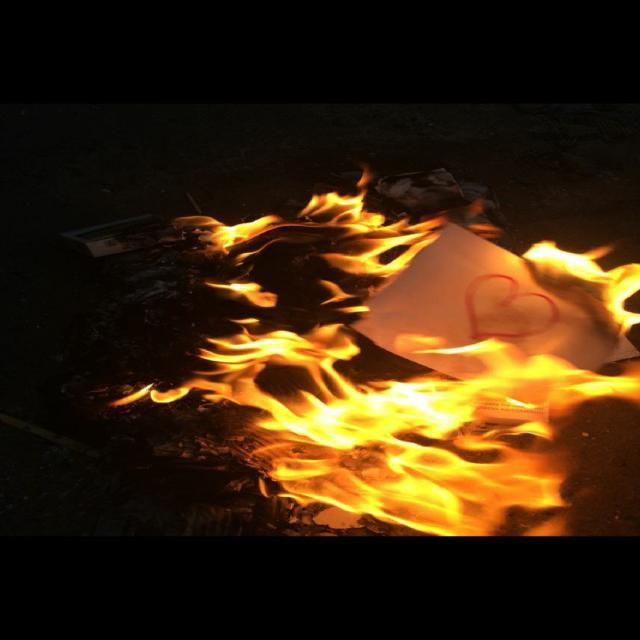Fire: (151, 179, 633, 530)
